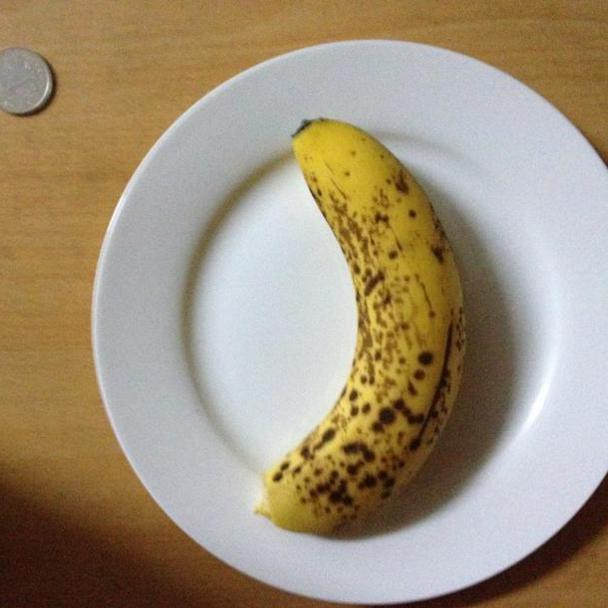banana: (266, 115, 475, 530)
